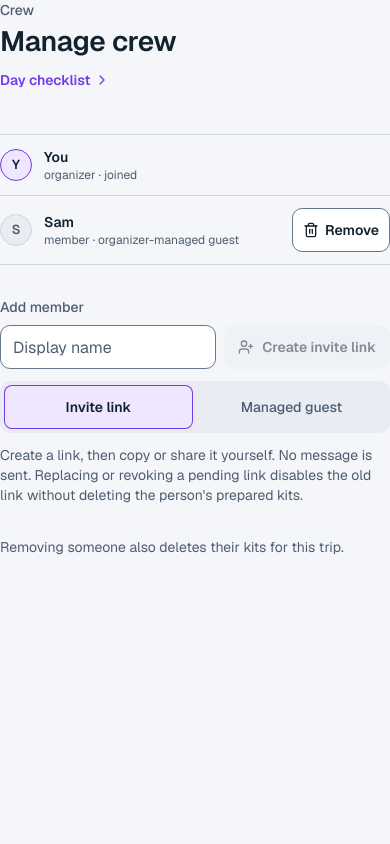
Manage crew page › describes actual removal effects for guest with token null
What coordinates should you click on to do the following:
click the button with aria-label "Remove Sam"
I would click on:
 (341, 230)
Its box is [292, 208, 389, 252].
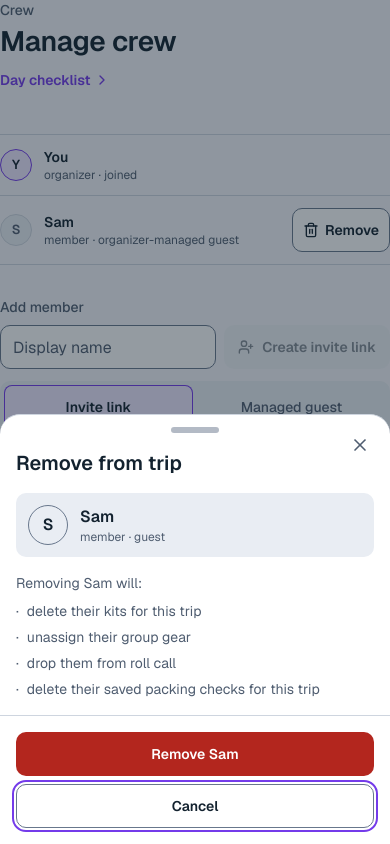
Expected: the list item "delete their kits for this trip" is shown, [27, 602, 201, 620]
Expected: the list item "delete their saved packing checks for this trip" is shown, [27, 680, 320, 698]
